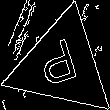P_S: (37, 35, 87, 95)
